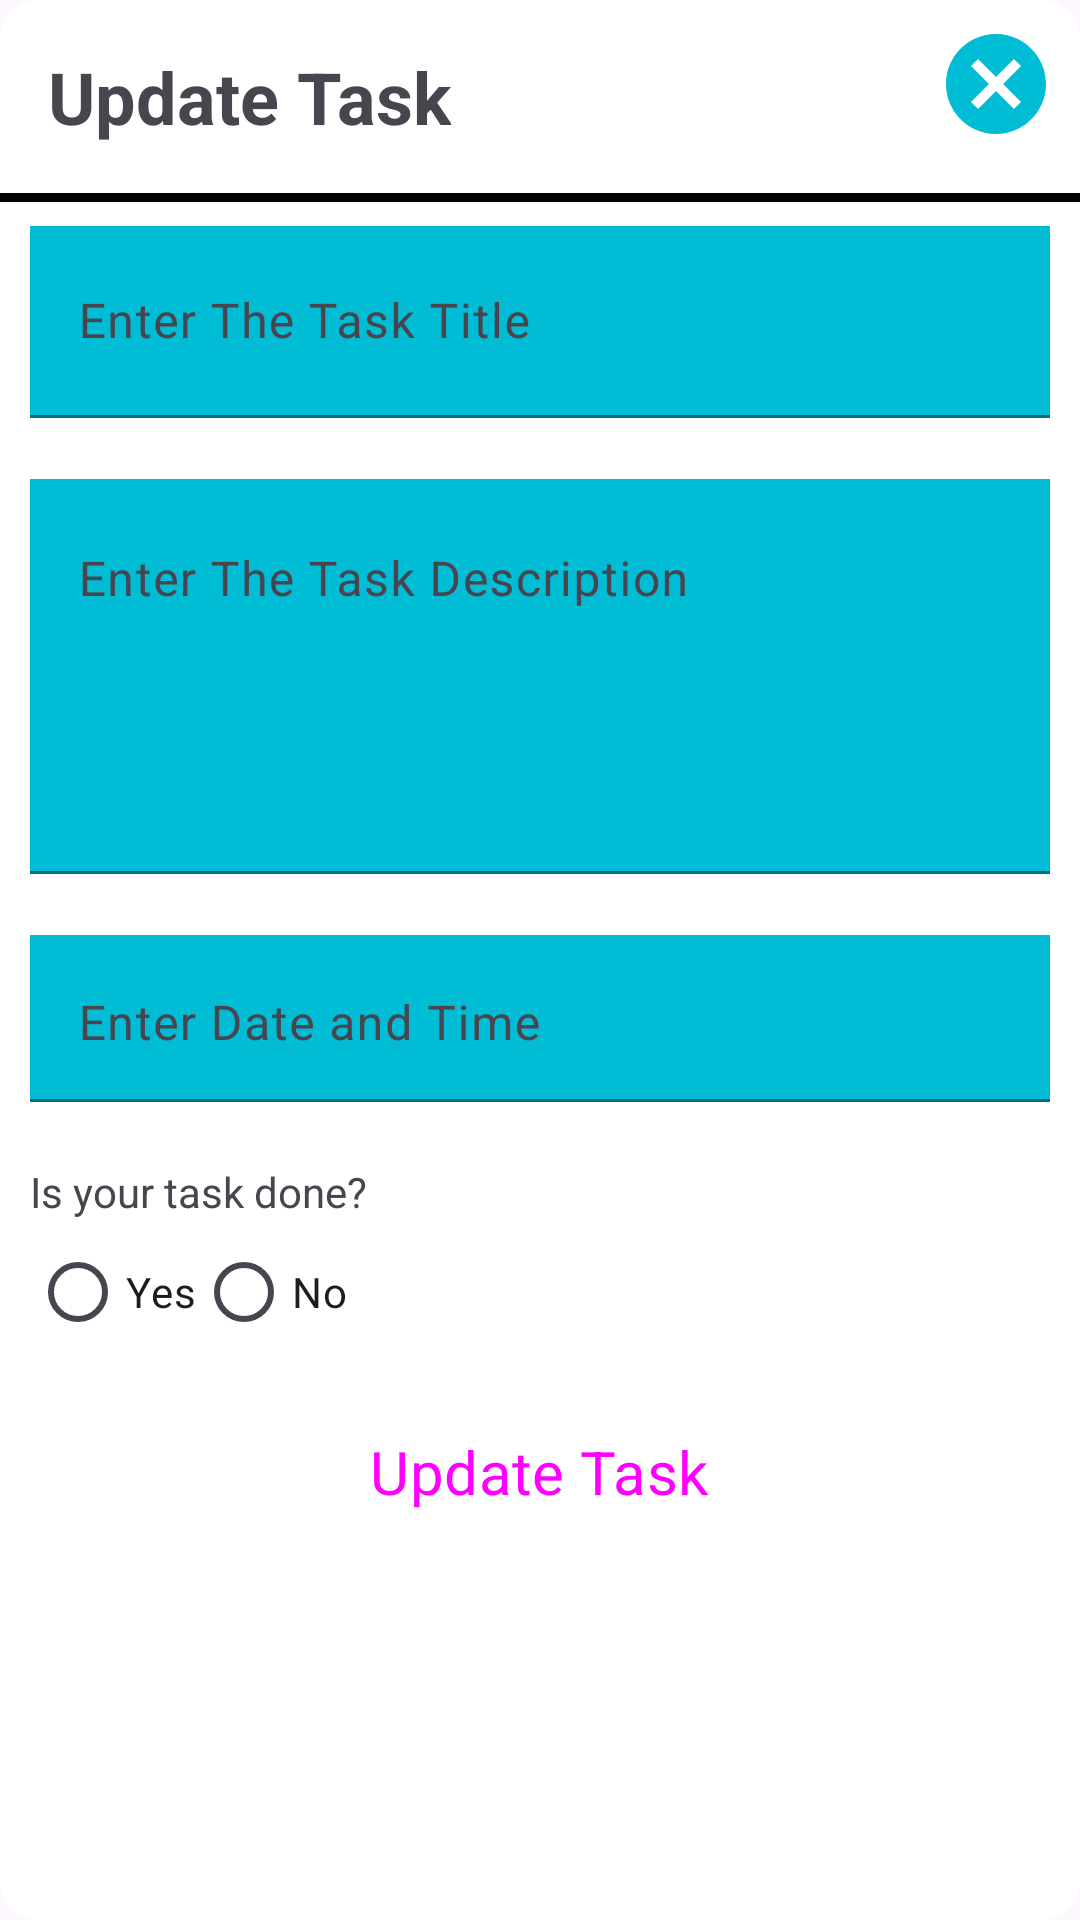

Screen size 1080 × 1920. Icon name, then its box in pixels as (x1, y1, x2, y2):
close: (946, 34, 1046, 134)
